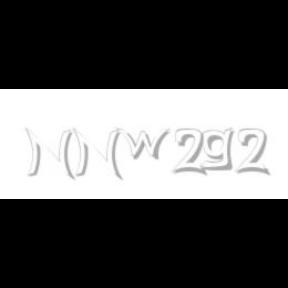2: (171, 128, 205, 176), (234, 128, 268, 176)
N: (24, 128, 74, 180), (72, 128, 120, 180)
g: (200, 128, 237, 171)
w: (115, 128, 174, 160)
